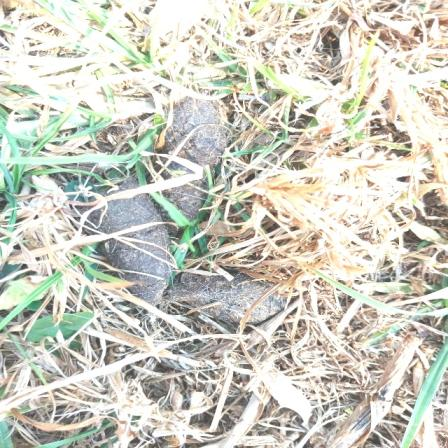dog-poop: (59, 81, 295, 329)
